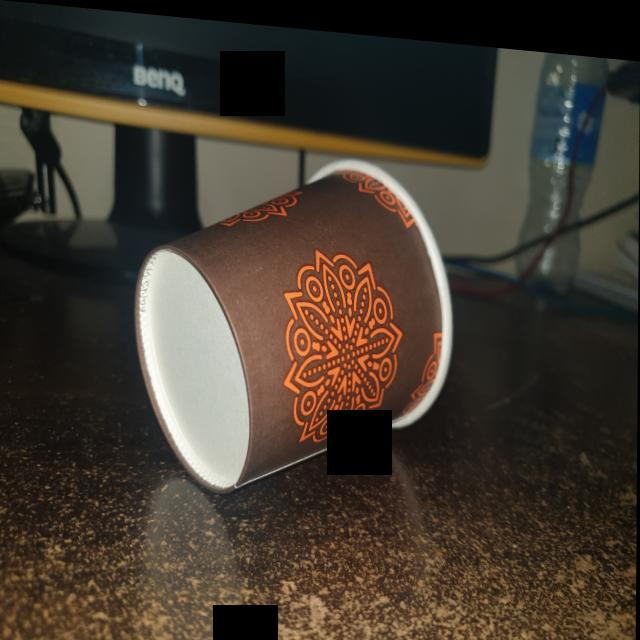cups: (128, 130, 460, 509)
